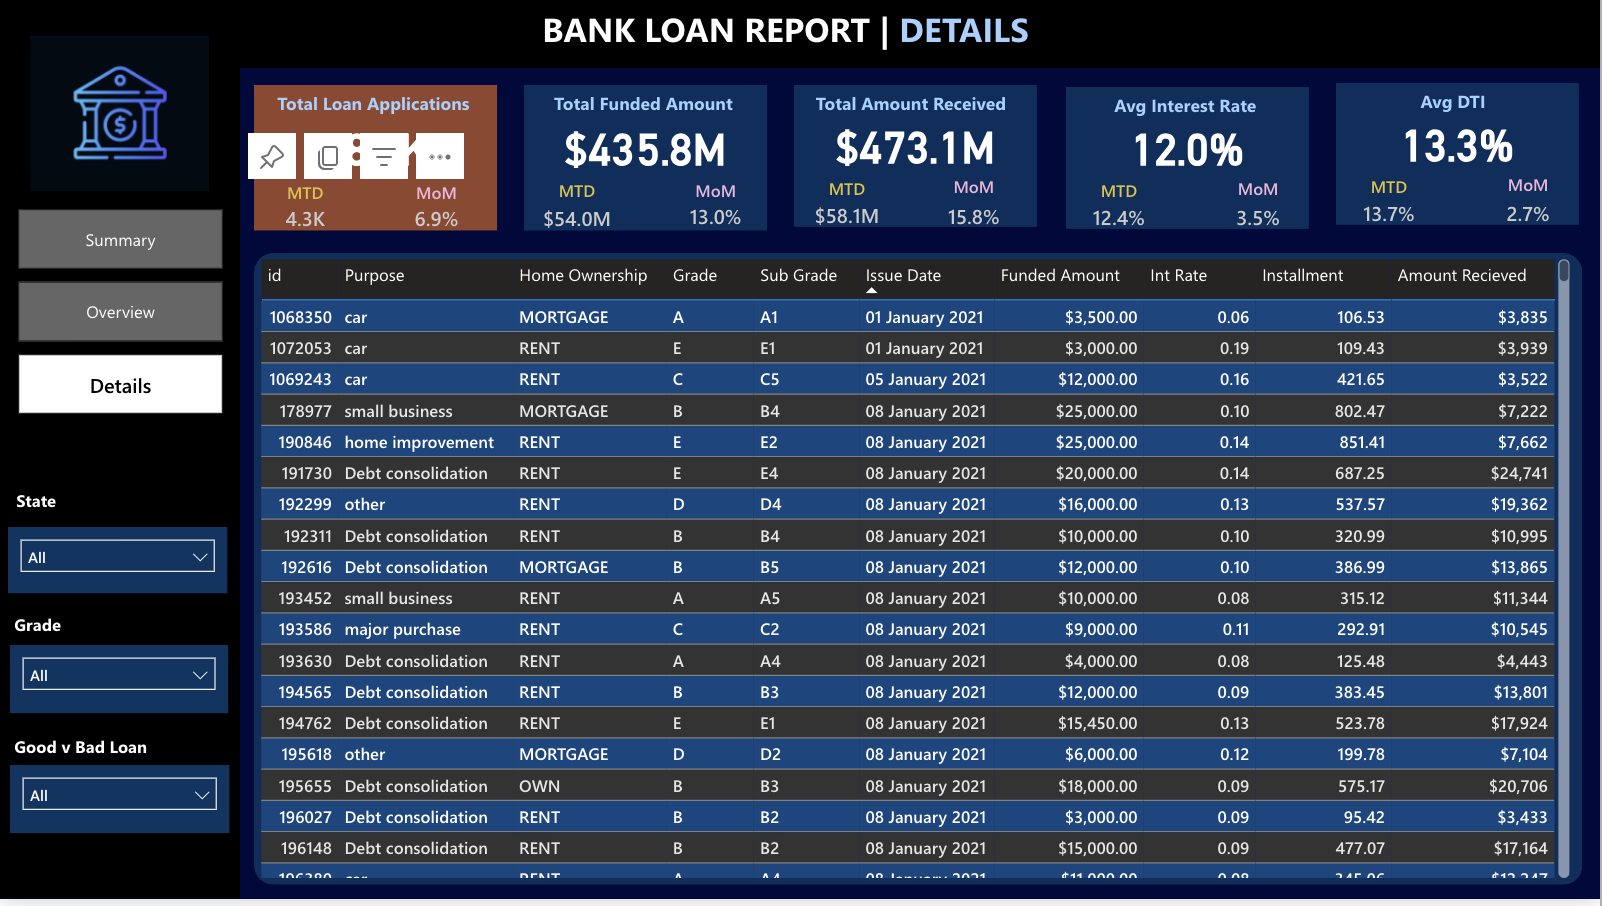

This screenshot's page, from the dashboard's own definition file:
{"tool":"powerbi","page":{"name":"Details","canvas":[1280,720],"ordinal":2},"visuals":[{"type":"shape","box":[0,55.1,192,665],"z":0},{"type":"shape","box":[1068.1,66.7,194.3,113.7],"z":0,"group":"g5"},{"type":"shape","box":[635.8,68.2,194.3,113.7],"z":0,"group":"g3"},{"type":"shape","box":[203.1,68.8,194.4,116.4],"z":0,"group":"g1"},{"type":"shape","box":[419.5,68.8,194.4,116.4],"z":0,"group":"g2"},{"type":"shape","box":[852.1,69.8,194.3,113.7],"z":0,"group":"g4"},{"type":"shape","box":[0,0,1280,55],"z":1000},{"type":"card","fields":{"Values":["bank_loan_data.Avg DTI"]},"box":[1068.2,86.5,193.6,55],"z":1000,"group":"g5"},{"type":"card","fields":{"Values":["bank_loan_data.Total Amount Recieved"]},"box":[635.9,88,193.6,55],"z":1000,"group":"g3"},{"type":"card","fields":{"Values":["bank_loan_data.Total Loan Applications"]},"box":[203.2,89.1,193.8,56.2],"z":1000,"group":"g1"},{"type":"card","fields":{"Values":["bank_loan_data.Total Funded Amount"]},"box":[419.6,89.1,193.8,56.2],"z":1000,"group":"g2"},{"type":"card","fields":{"Values":["bank_loan_data.Avg Interest Rate"]},"box":[852.2,89.6,193.6,55],"z":1000,"group":"g4"},{"type":"textbox","box":[1065,66.7,197.4,31.4],"z":2000,"group":"g5"},{"type":"textbox","box":[632.7,68.2,197.4,31.4],"z":2000,"group":"g3"},{"type":"textbox","box":[200,68.8,197.5,32.2],"z":2000,"group":"g1"},{"type":"textbox","box":[416.4,68.8,197.5,32.2],"z":2000,"group":"g2"},{"type":"textbox","box":[849,69.8,197.4,31.4],"z":2000,"group":"g4"},{"type":"shape","box":[203,203,1062.7,505.4],"z":2000},{"type":"shape","box":[0,0,1280,55],"z":3000},{"type":"card","title":"MTD","fields":{"Values":["bank_loan_data.MTD Avg DTI"]},"box":[1076.6,140.3,68.7,47.6],"z":3000,"group":"g5"},{"type":"card","title":"MTD","fields":{"Values":["bank_loan_data.MTD Total Amount Recieved"]},"box":[644.3,141.8,68.7,47.6],"z":3000,"group":"g3"},{"type":"card","title":"MTD","fields":{"Values":["bank_loan_data.MTD Avg Int Rate"]},"box":[860.6,143.4,68.7,47.6],"z":3000,"group":"g4"},{"type":"card","title":"MTD","fields":{"Values":["bank_loan_data.MTD Funded Amount"]},"box":[428,144.1,68.8,48.8],"z":3000,"group":"g2"},{"type":"card","title":"MTD","fields":{"Values":["bank_loan_data.MTD Loan Applications"]},"box":[219.4,145.3,50,45],"z":3000,"group":"g1"},{"type":"textbox","box":[428.3,0,451.7,60],"z":4000},{"type":"card","title":"MoM","fields":{"Values":["bank_loan_data.MoM Avg DTI"]},"box":[1194,138.6,54.6,51.6],"z":4000,"group":"g5"},{"type":"card","title":"MoM","fields":{"Values":["bank_loan_data.MoM Total Amount Recieved"]},"box":[743.1,139.5,73.3,51.7],"z":4000,"group":"g3"},{"type":"card","title":"MoM","fields":{"Values":["bank_loan_data.MoM Avg Int Rate"]},"box":[978,141.7,54.6,51.6],"z":4000,"group":"g4"},{"type":"card","title":"MoM","fields":{"Values":["bank_loan_data.MoM Total Funded Amount"]},"box":[539.1,144.2,66.7,45],"z":4000,"group":"g2"},{"type":"card","title":"MoM","fields":{"Values":["bank_loan_data.MoM Loan Application"]},"box":[324.4,145.3,48.8,45],"z":4000,"group":"g1"},{"type":"group","id":"g1","title":"Group 1","box":[200,68.8,197.5,121.2],"z":5000},{"type":"group","id":"g2","title":"Group 1","box":[416.4,68.8,197.5,124.1],"z":6000},{"type":"group","id":"g3","title":"Group 1","box":[632.7,68.2,197.4,122.9],"z":7000},{"type":"group","id":"g4","title":"Group 1","box":[849,69.8,197.2,122.8],"z":8000},{"type":"group","id":"g5","title":"Group 1","box":[1065,66.7,196.7,123.3],"z":9000},{"type":"slicer","fields":{"Values":["bank_loan_data.address_state"]},"box":[7.1,422.9,175.7,52.9],"z":10000},{"type":"textbox","box":[8.6,387.1,101.4,35.7],"z":11000},{"type":"slicer","fields":{"Values":["bank_loan_data.grade"]},"box":[8.6,517.1,174.3,54.3],"z":12000},{"type":"textbox","box":[7.1,485.7,60,31.4],"z":13000},{"type":"slicer","fields":{"Values":["bank_loan_data.Good v Bad Loan"]},"box":[8.6,612.9,175.7,54.3],"z":14000},{"type":"textbox","box":[7.1,584.3,132.9,28.6],"z":15000},{"type":"tableEx","fields":{"Values":["bank_loan_data.id","bank_loan_data.purpose","bank_loan_data.home_ownership","bank_loan_data.grade","bank_loan_data.sub_grade","bank_loan_data.issue_date","bank_loan_data.Total Funded Amount","Sum(bank_loan_data.int_rate)","Sum(bank_loan_data.installment)","bank_loan_data.Total Amount Recieved"]},"box":[203.8,202.5,1057.5,505],"z":16000},{"type":"image","box":[18.6,18.6,152.9,141.4],"z":17000},{"type":"pageNavigator","box":[14.3,168.6,164.3,165.7],"z":18000}]}

Visuals, with their boxes in screenshot pixels (x1, y1, x2, y2), scaled from the page's 1280x720 canvas onto the 1608x906 screenshot:
shape: (left=0, top=69, right=241, bottom=905)
shape: (left=1342, top=84, right=1586, bottom=227)
shape: (left=799, top=86, right=1043, bottom=229)
shape: (left=255, top=87, right=499, bottom=233)
shape: (left=527, top=87, right=771, bottom=233)
shape: (left=1070, top=88, right=1315, bottom=231)
shape: (left=0, top=0, right=1607, bottom=69)
card - bank_loan_data.Avg DTI: (left=1342, top=109, right=1585, bottom=178)
card - bank_loan_data.Total Amount Recieved: (left=799, top=111, right=1042, bottom=180)
card - bank_loan_data.Total Loan Applications: (left=255, top=112, right=499, bottom=183)
card - bank_loan_data.Total Funded Amount: (left=527, top=112, right=771, bottom=183)
card - bank_loan_data.Avg Interest Rate: (left=1071, top=113, right=1314, bottom=182)
textbox: (left=1338, top=84, right=1586, bottom=123)
textbox: (left=795, top=86, right=1043, bottom=125)
textbox: (left=251, top=87, right=499, bottom=127)
textbox: (left=523, top=87, right=771, bottom=127)
textbox: (left=1067, top=88, right=1315, bottom=127)
shape: (left=255, top=255, right=1590, bottom=891)
shape: (left=0, top=0, right=1607, bottom=69)
"MTD" card: (left=1352, top=177, right=1439, bottom=236)
"MTD" card: (left=809, top=178, right=896, bottom=238)
"MTD" card: (left=1081, top=180, right=1167, bottom=240)
"MTD" card: (left=538, top=181, right=624, bottom=243)
"MTD" card: (left=276, top=183, right=338, bottom=239)
textbox: (left=538, top=0, right=1106, bottom=76)
"MoM" card: (left=1500, top=174, right=1569, bottom=239)
"MoM" card: (left=934, top=176, right=1026, bottom=241)
"MoM" card: (left=1229, top=178, right=1297, bottom=243)
"MoM" card: (left=677, top=181, right=761, bottom=238)
"MoM" card: (left=408, top=183, right=469, bottom=239)
"Group 1" group: (left=251, top=87, right=499, bottom=239)
"Group 1" group: (left=523, top=87, right=771, bottom=243)
"Group 1" group: (left=795, top=86, right=1043, bottom=240)
"Group 1" group: (left=1067, top=88, right=1314, bottom=242)
"Group 1" group: (left=1338, top=84, right=1585, bottom=239)
slicer - bank_loan_data.address_state: (left=9, top=532, right=230, bottom=599)
textbox: (left=11, top=487, right=138, bottom=532)
slicer - bank_loan_data.grade: (left=11, top=651, right=230, bottom=719)
textbox: (left=9, top=611, right=84, bottom=651)
slicer - bank_loan_data.Good v Bad Loan: (left=11, top=771, right=232, bottom=840)
textbox: (left=9, top=735, right=176, bottom=771)
tableEx - bank_loan_data.id x bank_loan_data.purpose: (left=256, top=255, right=1585, bottom=890)
image: (left=23, top=23, right=215, bottom=201)
pageNavigator: (left=18, top=212, right=224, bottom=421)
